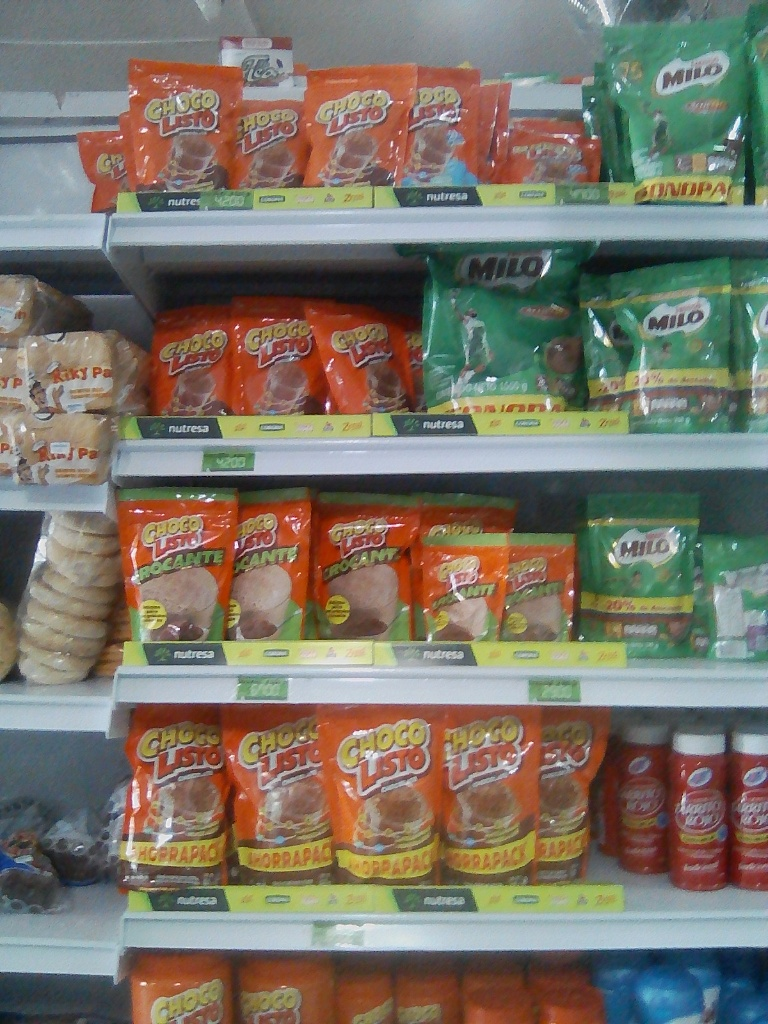COL0170102DYP10000: (419, 534, 504, 641)
COL0170102DYP25000: (116, 491, 229, 639)
COL0170103DYP20000: (304, 69, 413, 187)
COL0170103DYP40000: (120, 709, 237, 893)
COL0170104DYP20000: (400, 76, 488, 185)
COL0170203DYP25000: (588, 493, 705, 660)
